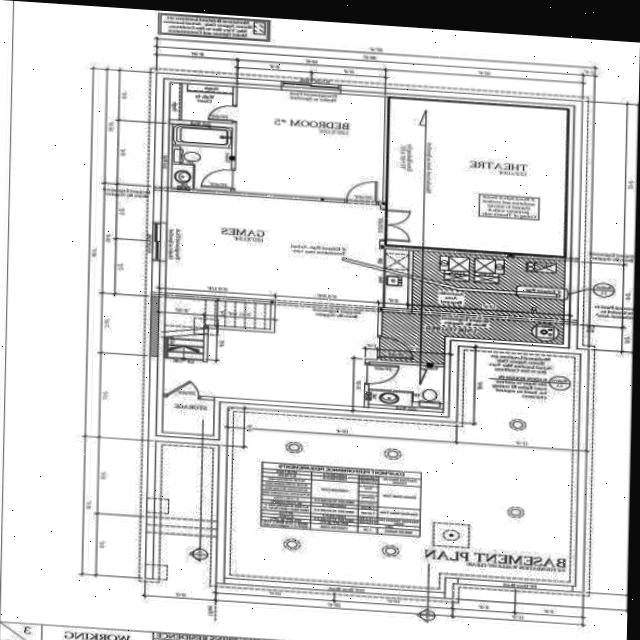room: (380, 98, 574, 257), (379, 249, 569, 372), (230, 87, 390, 202), (171, 124, 232, 191), (366, 362, 446, 413), (168, 83, 235, 124), (161, 397, 216, 436)
